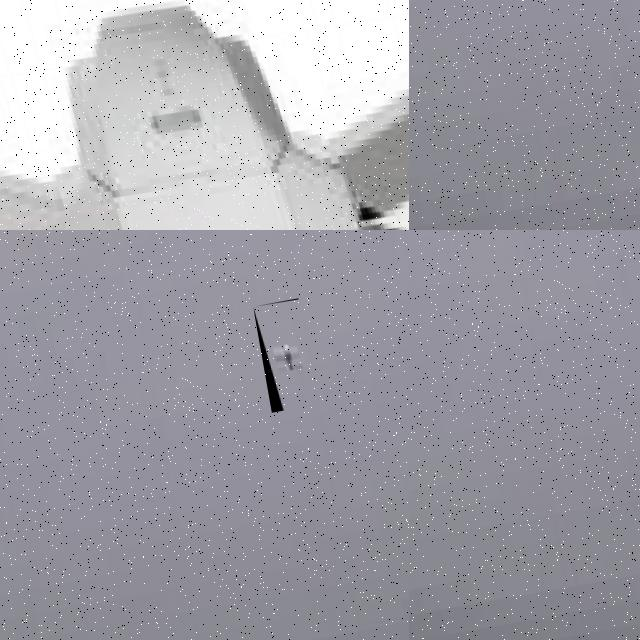drone: (0, 0, 409, 230), (252, 298, 316, 412)
